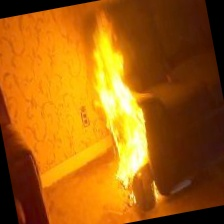fire: (78, 5, 153, 190)
